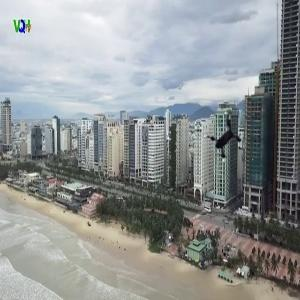drone: (191, 108, 252, 169)
